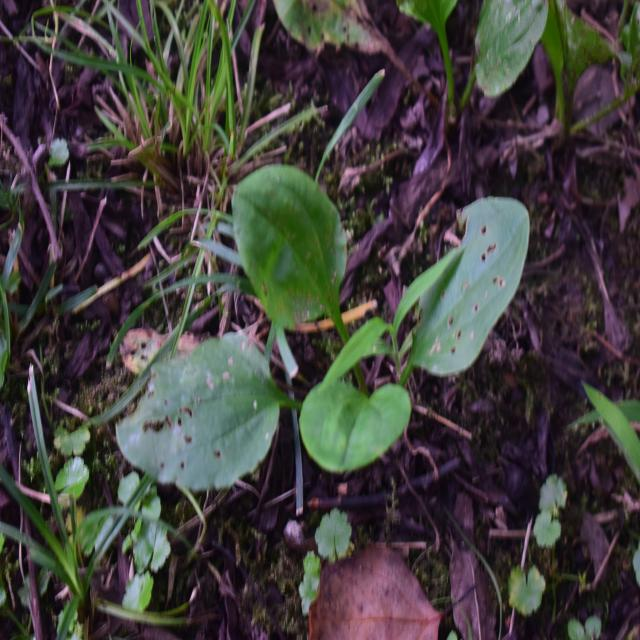plantain: (140, 165, 533, 492)
